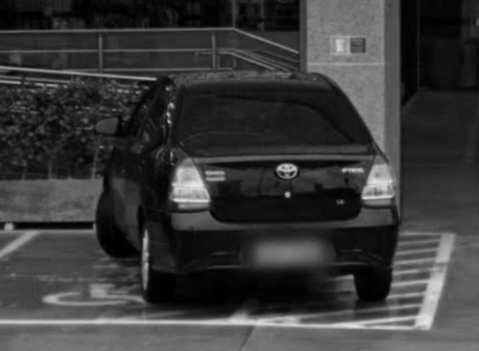car: (89, 69, 402, 310)
